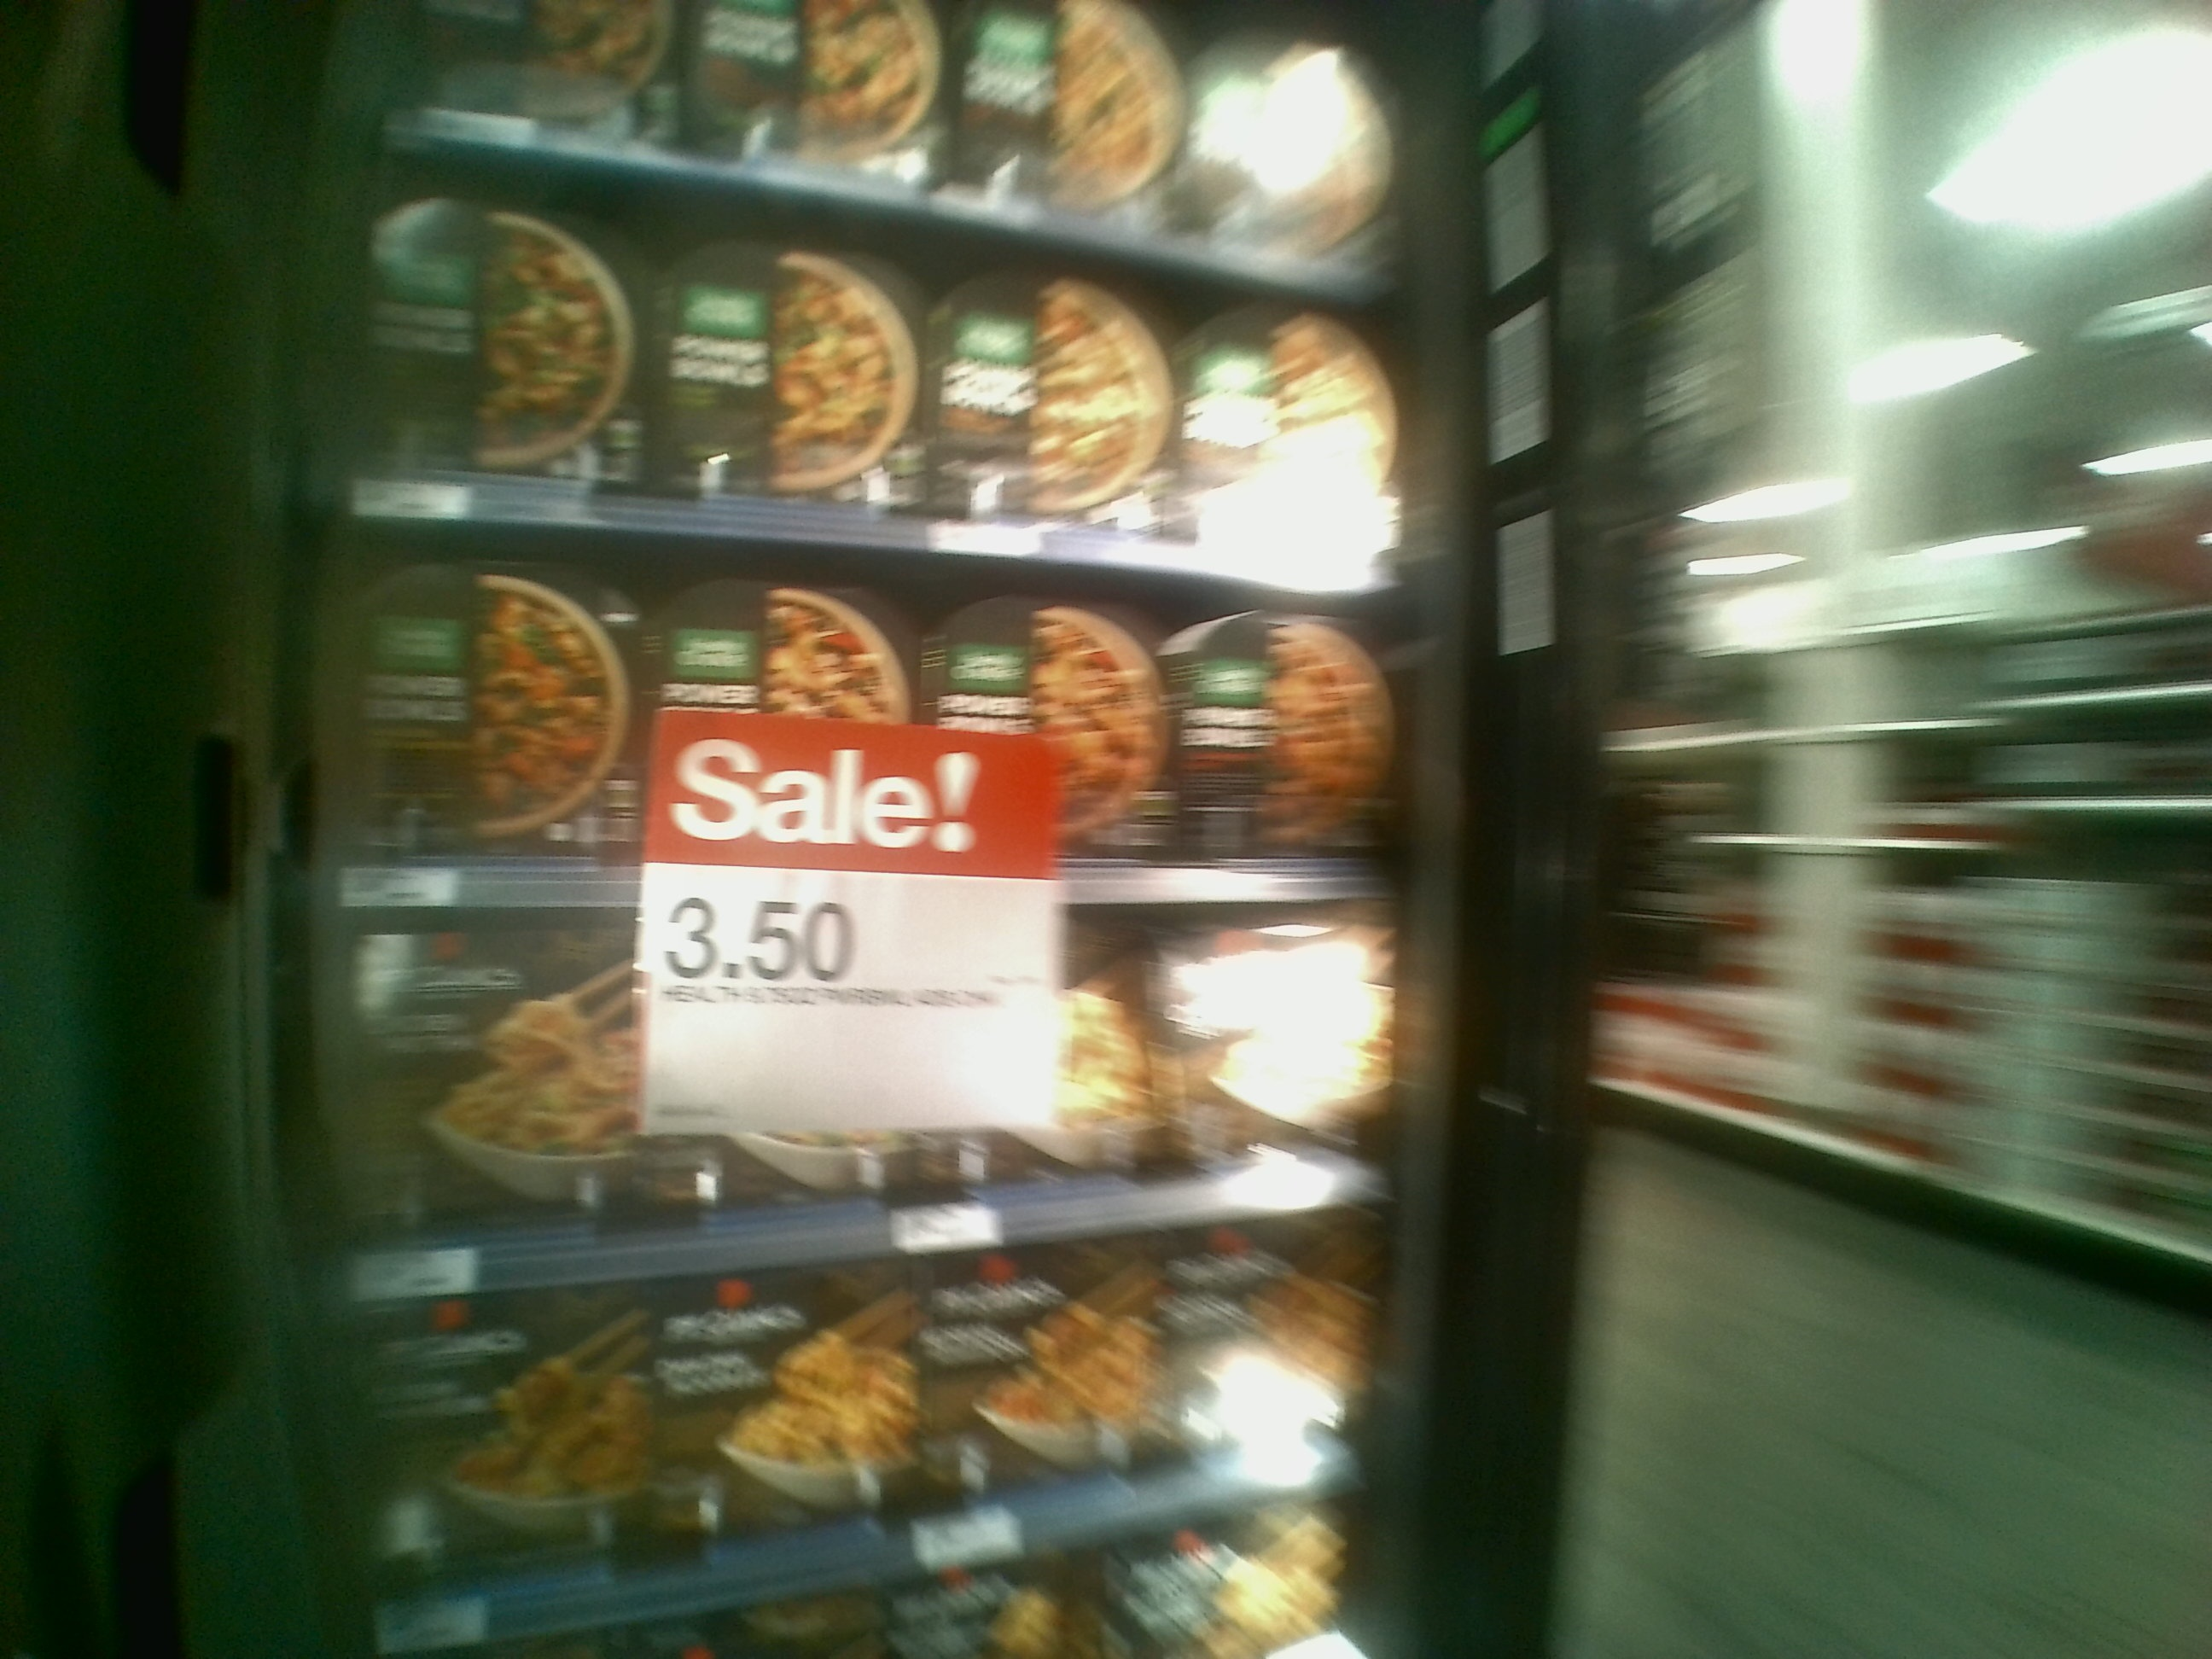shelf: (326, 512, 1407, 924)
